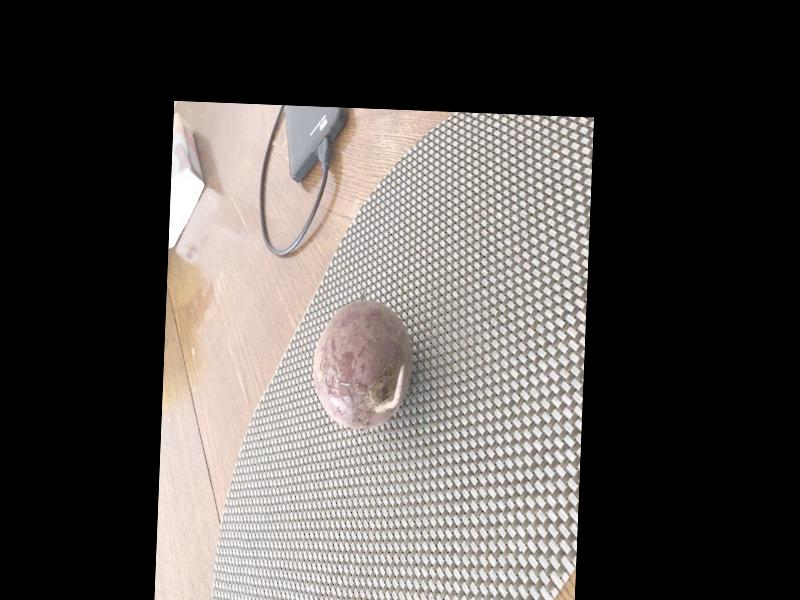Beet: (311, 297, 414, 430)
